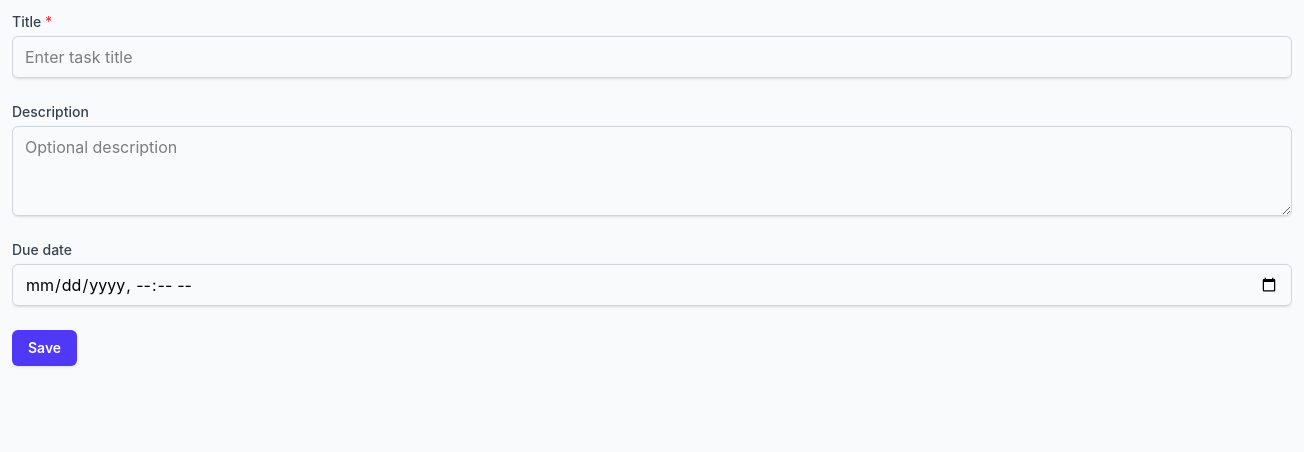
shows error when submitting with empty title
Click the button "Save". click: (45, 348)
box: [12,330,77,366]
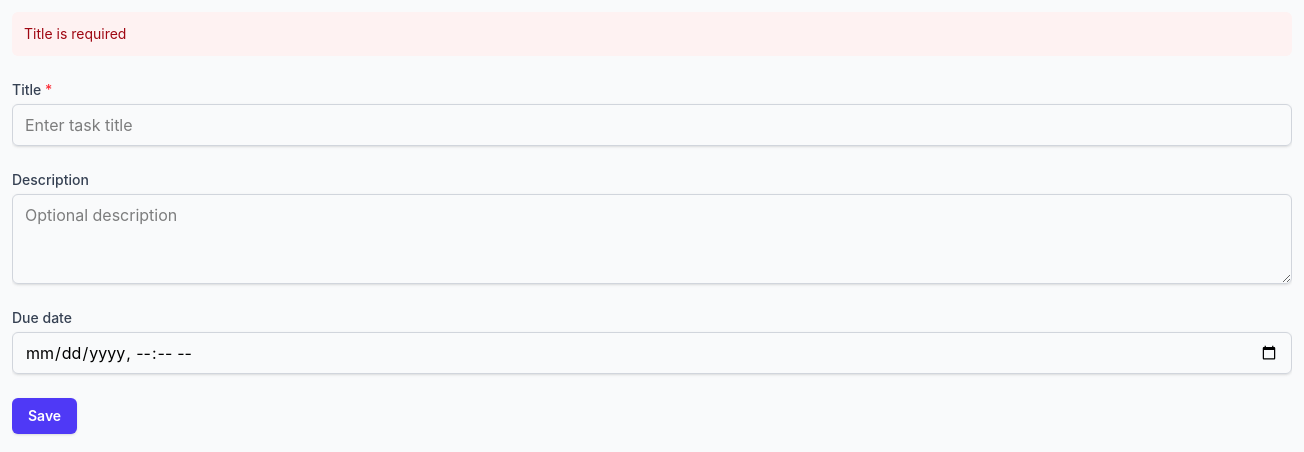
Check: the text "Title is required" is shown, box [12,12,1292,56]
